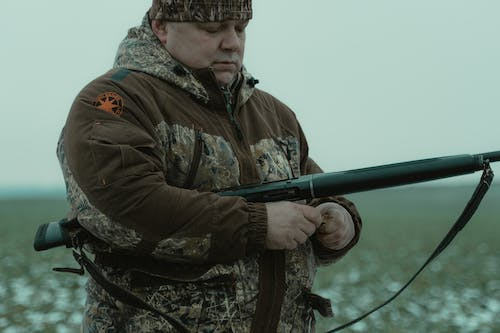gun: (32, 149, 500, 254)
